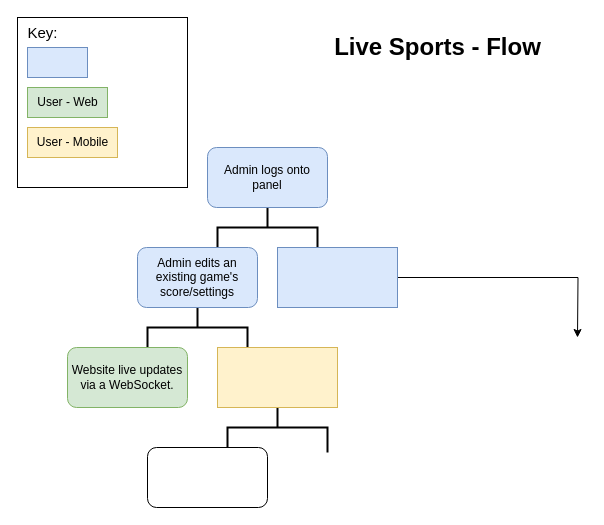
Some shapes in this 604 by 525 pixel diagram are drawn without their labels. The shapes that lost their labels are listed below. From the top down, each one's centre as x and y in pixels, then its label:
At (57,62): "Admin".
At (337,277): "Admin Creates a new game".
At (277,377): "User is subscribed to that sport".
